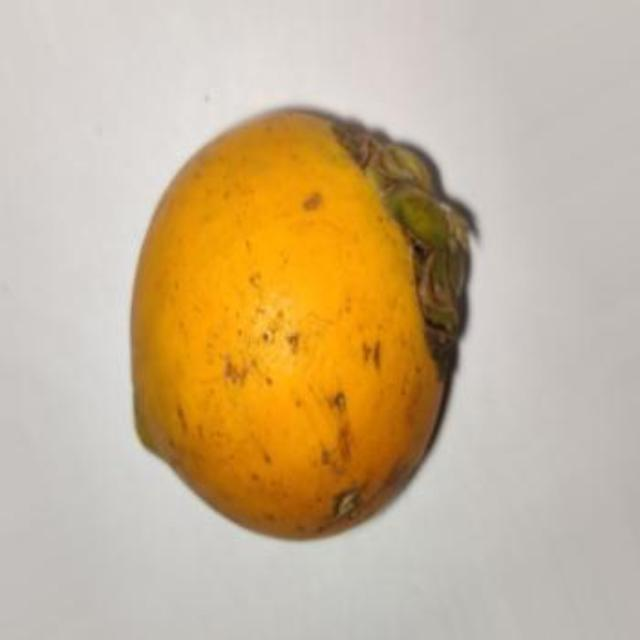good: (128, 108, 474, 545)
